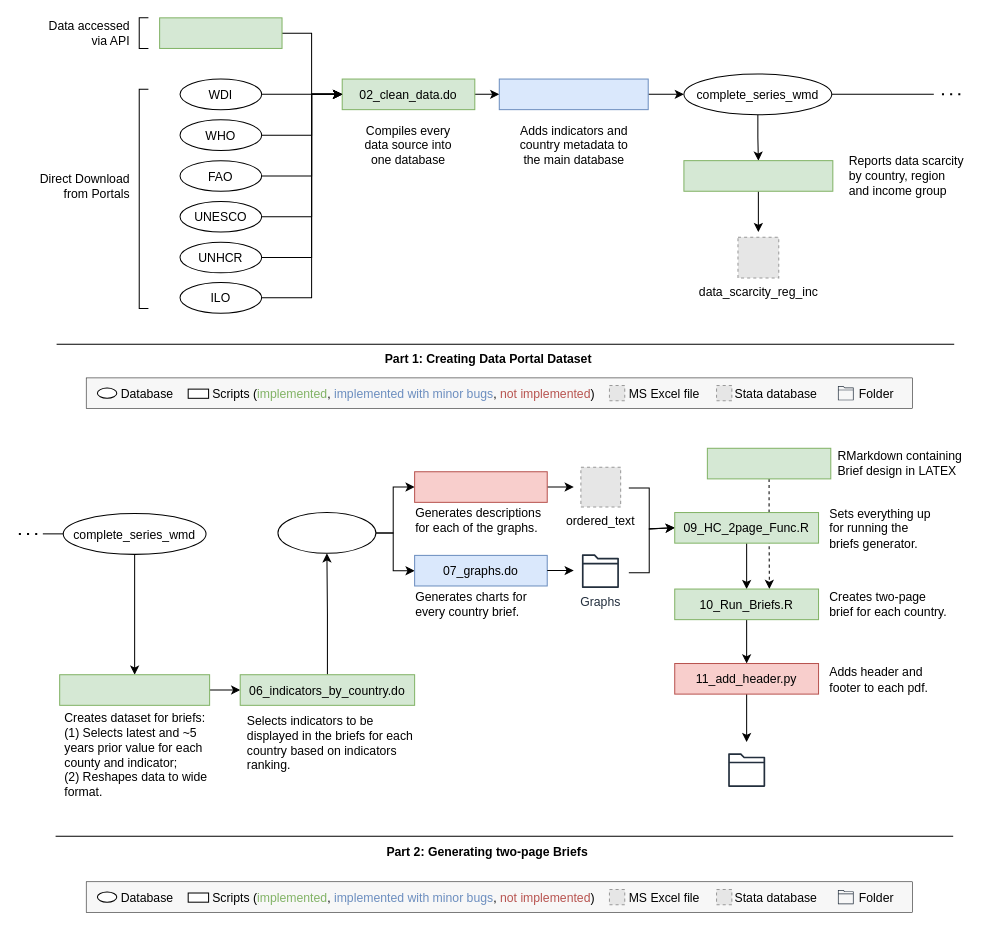
Some shapes in this 986 by 944 pixel diagram are drawn without their labels. Grey dashed boxes stand in for pictures. The centre of each missing label's shape, as x and y in pixels:
"01_UNICEF_API.py" belongs at point 220,32.
"03_clean_metadata.do" belongs at point 573,94.
"04_missing_data.do" belongs at point 758,175.
"05_brief_dataset.do" belongs at point 134,689.
"08_text for graphs.do" belongs at point 480,486.
"AM_2023_HC.Rmd" belongs at point 768,463.
"Briefs" belongs at point 746,769.
"data_briefs" belongs at point 326,532.
